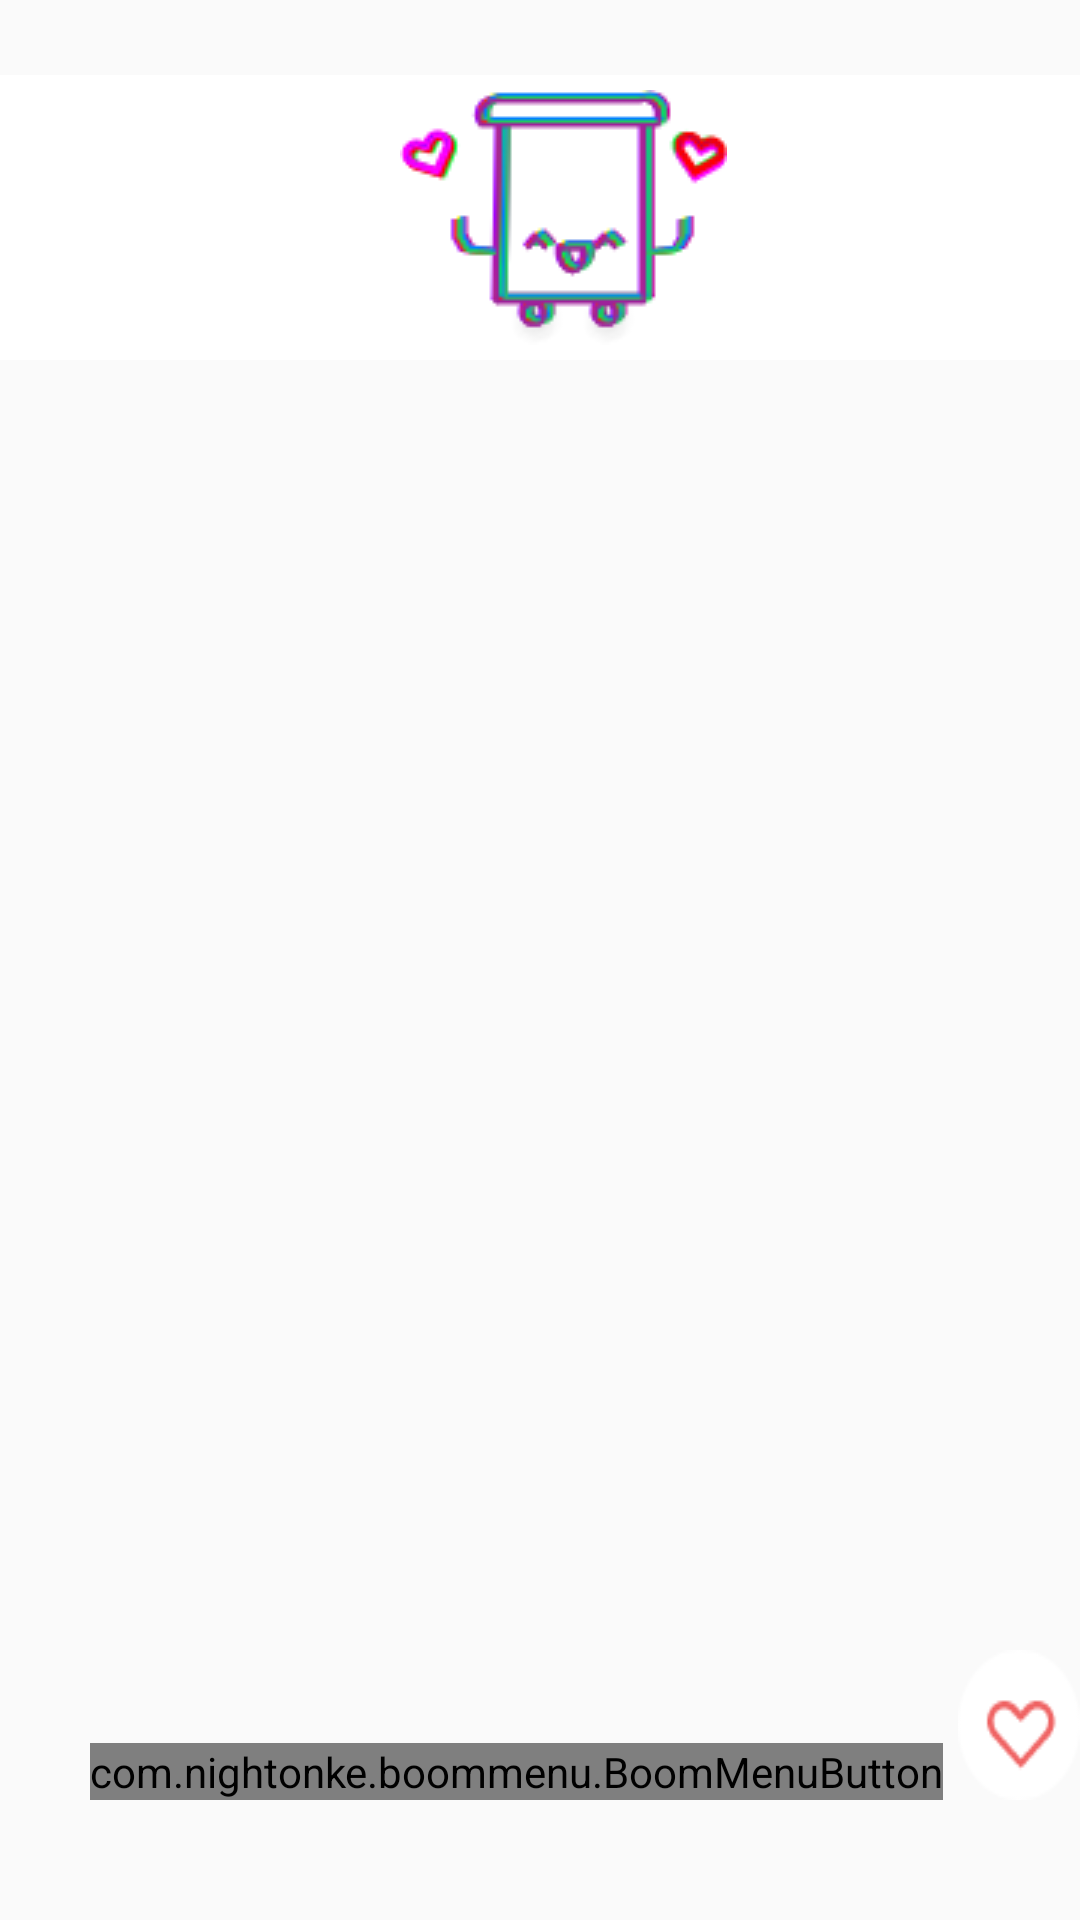

Icon click points for this 1080px×1920px phone screenshot, format (x=x, y=y):
fav: (x=1021, y=1734)
